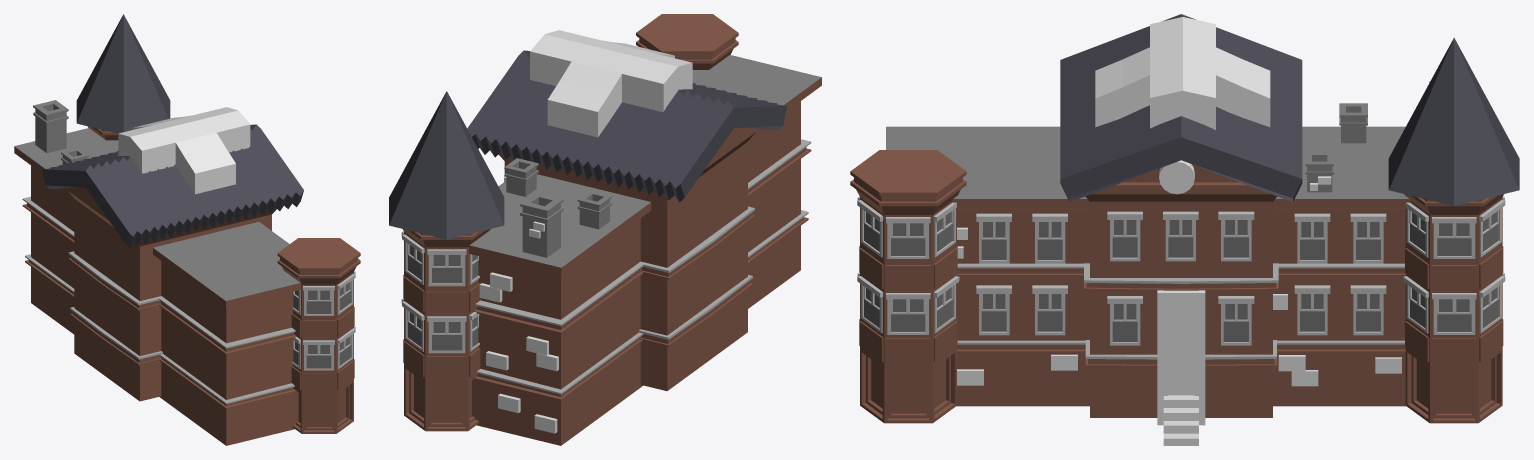
The model's file is Hospital2.fbx.
3 renders of one model, left to right at view 1: azimuth 30°, elevation 25°; view 2: azimuth 150°, elevation 25°; view 3: azimuth 270°, elevation 25°, orthographic. The views are drawn at different scales.
Visible parts, largest first — view 1: Cube.002, Cube, Cube.001, Cylinder, Plane, Cone, Window1-1.009, Cube.005; view 2: Cube.002, Cube, Cube.001, Cylinder, Plane, Cone, Window1-1.009, Cube.005, Cube.004, Cube.003; view 3: Cube.002, Cylinder, Cube, Cube.001, Window1-1.009, Cone, Plane, Window1-1.003, Window1-1.001, Cube.009, Cube.007, Cube.008 (+4 smaller).
Boxes of the visible parts, x1,y1,x2,y2 form: Cube.002: (14,128,301,445); Cube: (67,187,276,401); Cube.001: (42,124,303,247); Cylinder: (88,126,360,433); Plane: (118,107,250,194); Cone: (76,14,170,133); Window1-1.009: (292,271,355,370); Cube.005: (33,100,68,153); Cube.002: (469,55,821,445); Cube: (498,127,755,390); Cube.001: (467,50,787,202); Cylinder: (403,14,738,431); Plane: (530,30,692,137); Cone: (389,91,504,239); Window1-1.009: (401,231,479,353); Cube.005: (520,192,563,257); Cube.004: (577,190,612,229); Cube.003: (504,158,538,196); Cube.002: (886,126,1410,406); Cylinder: (850,150,1503,423); Cube: (1084,164,1278,417); Cube.001: (1060,14,1302,202); Window1-1.009: (857,196,1505,334); Cone: (1388,37,1519,205); Plane: (1095,17,1270,129); Window1-1.003: (976,213,1386,335); Window1-1.001: (1107,211,1254,345); Cube.009: (1164,299,1198,395); Cube.007: (1157,290,1205,425); Cube.008: (1163,395,1198,445).
Bounding box in the file's own units: 246 × 336 × 546.
